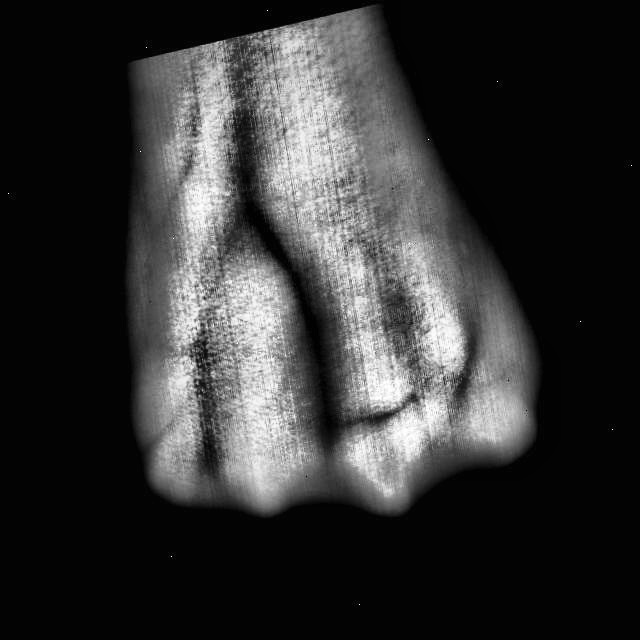Vein: (247, 208, 351, 388)
